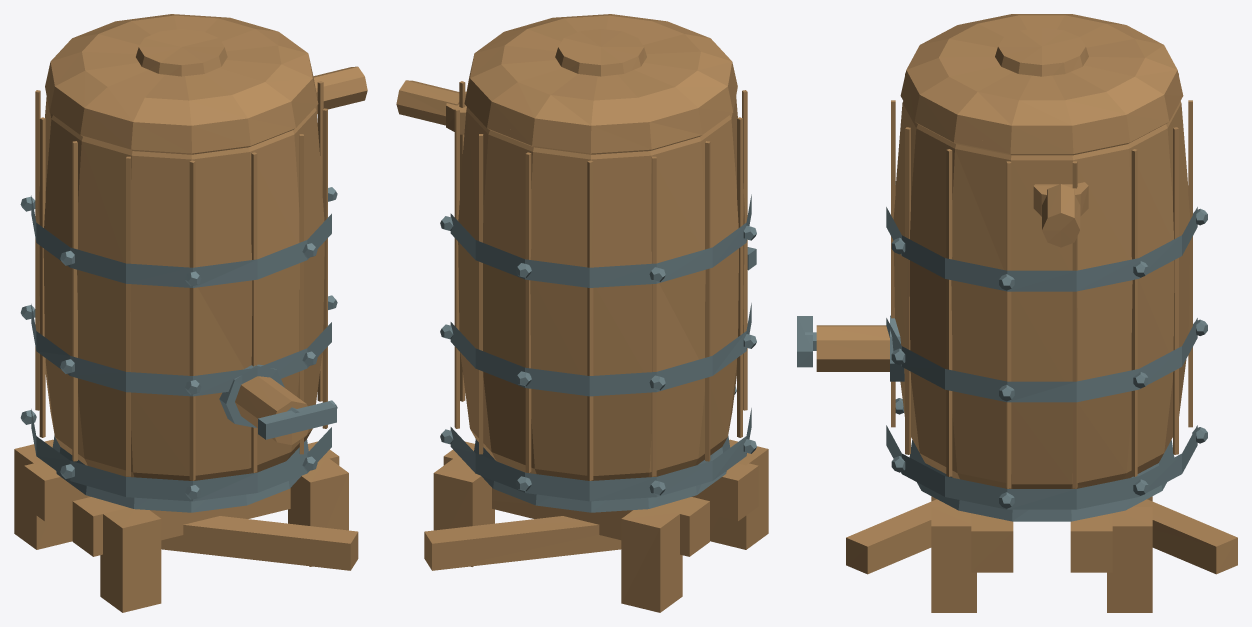
Rendered from Rain-Barrel.glb.
3 renders of one model, left to right at view 1: azimuth 30°, elevation 25°; view 2: azimuth 150°, elevation 25°; view 3: azimuth 270°, elevation 25°, orthographic. The views are drawn at different scales.
Visible parts, largest first — view 1: rain-barrel-static-rain-barrel-aged-wood-mat, rain-barrel-static-rain-barrel-end-grain-mat, rain-barrel-static-rain-barrel-dark-iron-mat, rain-barrel-static-rain-barrel-muted-teal-fitting-mat; view 2: rain-barrel-static-rain-barrel-aged-wood-mat, rain-barrel-static-rain-barrel-end-grain-mat, rain-barrel-static-rain-barrel-dark-iron-mat, rain-barrel-static-rain-barrel-muted-teal-fitting-mat; view 3: rain-barrel-static-rain-barrel-aged-wood-mat, rain-barrel-static-rain-barrel-end-grain-mat, rain-barrel-static-rain-barrel-dark-iron-mat, rain-barrel-static-rain-barrel-muted-teal-fitting-mat.
Boxes of the visible parts, bbox=[...] form: rain-barrel-static-rain-barrel-aged-wood-mat: bbox=[24, 14, 339, 556]; rain-barrel-static-rain-barrel-end-grain-mat: bbox=[14, 81, 358, 612]; rain-barrel-static-rain-barrel-dark-iron-mat: bbox=[20, 187, 337, 512]; rain-barrel-static-rain-barrel-muted-teal-fitting-mat: bbox=[136, 29, 367, 444]; rain-barrel-static-rain-barrel-aged-wood-mat: bbox=[443, 14, 758, 556]; rain-barrel-static-rain-barrel-end-grain-mat: bbox=[424, 81, 768, 612]; rain-barrel-static-rain-barrel-dark-iron-mat: bbox=[440, 194, 756, 512]; rain-barrel-static-rain-barrel-muted-teal-fitting-mat: bbox=[396, 29, 646, 134]; rain-barrel-static-rain-barrel-aged-wood-mat: bbox=[893, 14, 1190, 572]; rain-barrel-static-rain-barrel-end-grain-mat: bbox=[846, 73, 1237, 612]; rain-barrel-static-rain-barrel-dark-iron-mat: bbox=[797, 181, 1207, 521]; rain-barrel-static-rain-barrel-muted-teal-fitting-mat: bbox=[816, 28, 1088, 371].
Size of the model in its own units: 0.9992 by 1.47 by 1.15.
